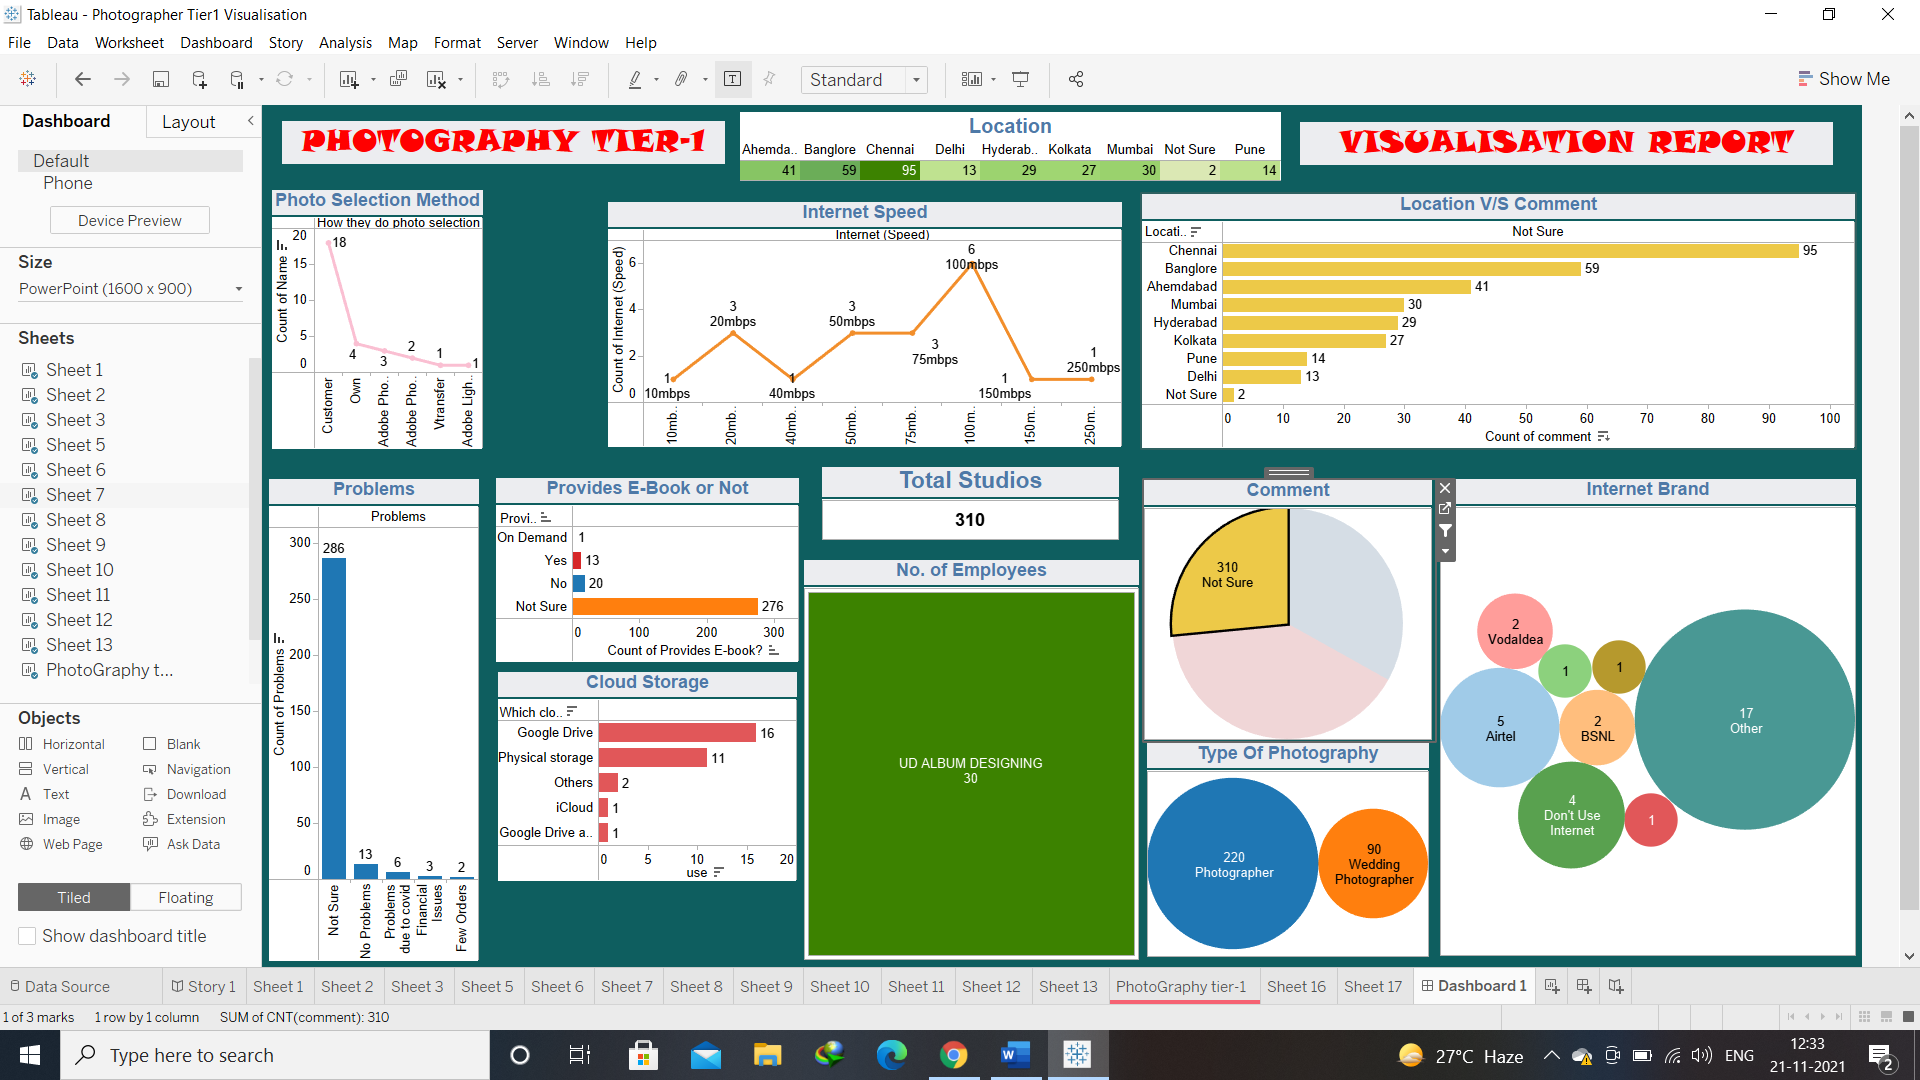

What the dashboard file says about the page in this screenshot:
{"tool":"tableau","page":{"name":"Dashboard 1","canvas":[1600,900],"ordinal":0},"visuals":[{"type":"worksheet","title":"Sheet 5","mark":"Square","cols":["Location"],"box":[478,7,545,72]},{"type":"worksheet","title":"PhotoGraphy tier-1","mark":"Automatic","box":[20,16,443,44]},{"type":"worksheet","title":"Sheet 16","mark":"Automatic","box":[1038,17,533,43]},{"type":"worksheet","title":"Sheet 13","mark":"Line","rows":["Name"],"cols":["How they do photo selection"],"box":[10,85,325,260]},{"type":"worksheet","title":"Sheet 2","mark":"Automatic","rows":["Location"],"cols":["comment","comment"],"box":[880,89,713,254]},{"type":"worksheet","title":"Sheet 12","mark":"Line","rows":["Internet (Speed)"],"cols":["Internet (Speed)"],"box":[346,97,514,245]},{"type":"worksheet","title":"Sheet 1","mark":"Automatic","box":[560,362,303,75]},{"type":"worksheet","title":"Sheet 8","mark":"Automatic","rows":["Provides E-book?"],"cols":["Provides E-book?"],"box":[234,373,303,187]},{"type":"worksheet","title":"Sheet 6","mark":"Automatic","rows":["Problems"],"cols":["Problems"],"box":[7,374,218,482]},{"type":"worksheet","title":"Sheet 3","mark":"Circle","box":[1178,374,420,477]},{"type":"worksheet","title":"Sheet 7","mark":"Pie","box":[882,375,291,261]},{"type":"worksheet","title":"Sheet 11","mark":"Automatic","box":[542,455,336,401]},{"type":"worksheet","title":"Sheet 9","mark":"Automatic","rows":["Which cloud storage they use"],"cols":["Which cloud storage they use"],"box":[236,567,302,288]},{"type":"worksheet","title":"Sheet 10","mark":"Circle","box":[885,638,284,216]}]}

Visuals, with their boxes on the page's 1600x900 design canvas (x1, y1, x2, y2). These are canvas units, not pixel positions in the 1920x1080 screenshot, which may show the page scaled, cropped or inside an application window:
"Sheet 5" worksheet (Square marks): 478, 7, 1023, 79
"PhotoGraphy tier-1" worksheet: 20, 16, 463, 60
"Sheet 16" worksheet: 1038, 17, 1571, 60
"Sheet 13" worksheet (Line marks): 10, 85, 335, 345
"Sheet 2" worksheet: 880, 89, 1593, 343
"Sheet 12" worksheet (Line marks): 346, 97, 860, 342
"Sheet 1" worksheet: 560, 362, 863, 437
"Sheet 8" worksheet: 234, 373, 537, 560
"Sheet 6" worksheet: 7, 374, 225, 856
"Sheet 3" worksheet (Circle marks): 1178, 374, 1598, 851
"Sheet 7" worksheet (Pie marks): 882, 375, 1173, 636
"Sheet 11" worksheet: 542, 455, 878, 856
"Sheet 9" worksheet: 236, 567, 538, 855
"Sheet 10" worksheet (Circle marks): 885, 638, 1169, 854
